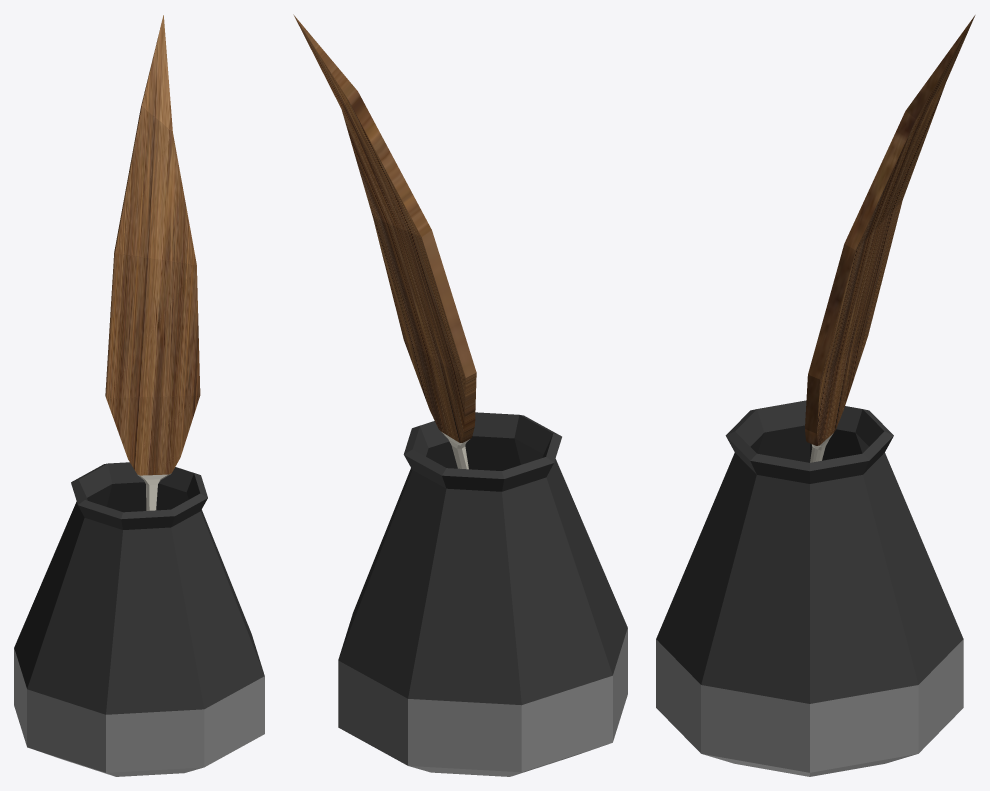
The model's file is Pena e Tinta.fbx.
3 views of the same model, side by side, from view 1: azimuth 30°, elevation 25°; view 2: azimuth 150°, elevation 25°; view 3: azimuth 270°, elevation 25° (orthographic). The views are drawn at different scales.
Parts seen in each view (by area): view 1: Tinta, Pena; view 2: Tinta, Pena; view 3: Tinta, Pena.
Boxes of the visible parts, x1=… form: Tinta: x1=14, y1=462, x2=264, y2=776; Pena: x1=105, y1=15, x2=200, y2=510; Tinta: x1=338, y1=412, x2=627, y2=776; Pena: x1=293, y1=14, x2=476, y2=469; Tinta: x1=656, y1=400, x2=963, y2=776; Pena: x1=805, y1=15, x2=975, y2=462.
Size of the model in its own units: 8.65 by 23.97 by 8.99.
4 materials, 1 textured.
